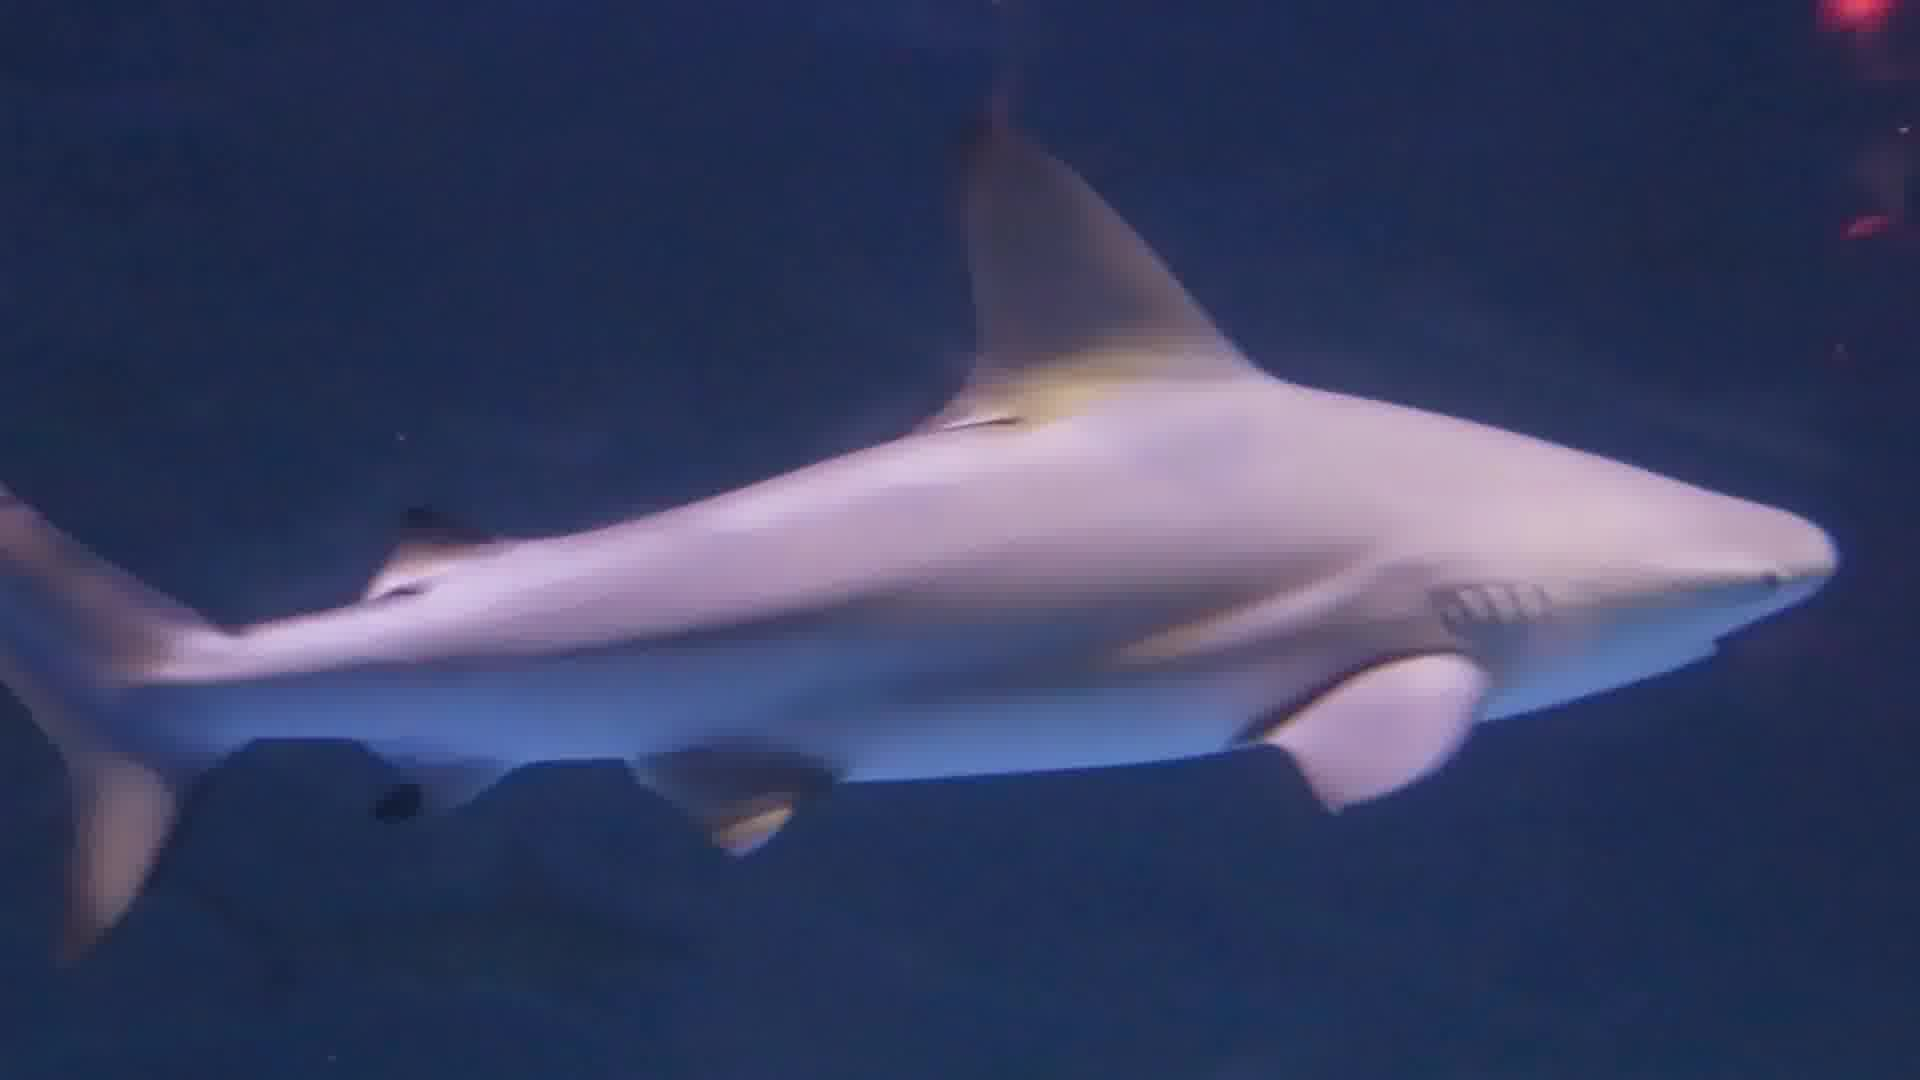Carcharhinus leucas: (3, 105, 1851, 915)
